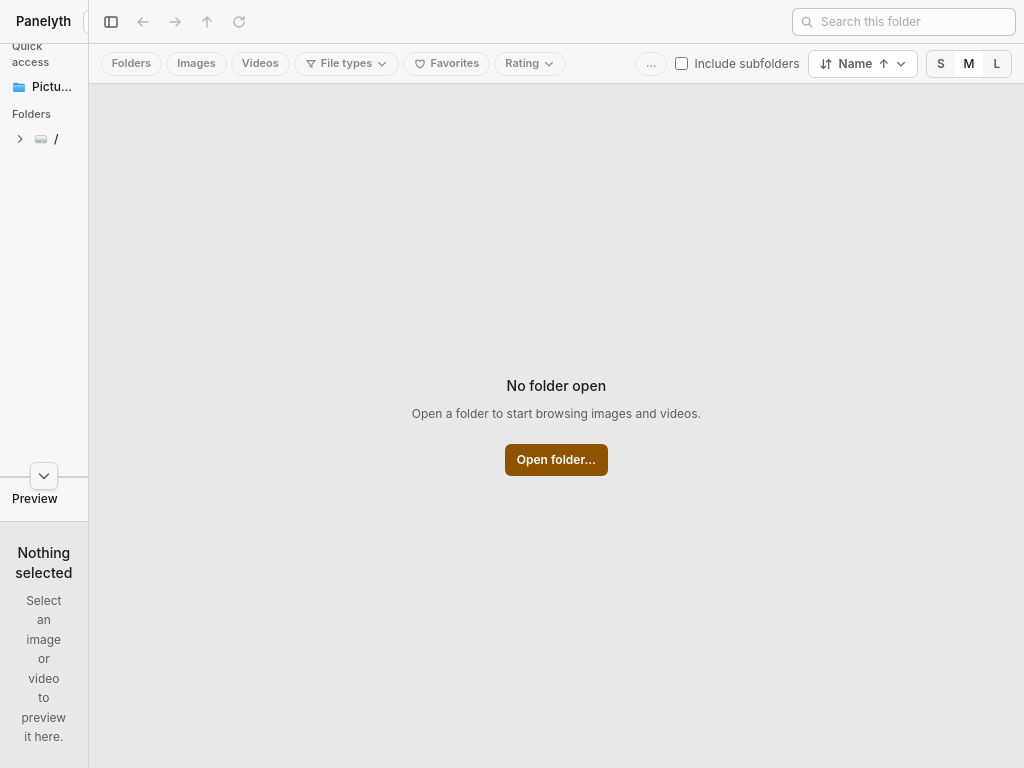
sidebar › lists tree children lazily, one level per expand
The width and height of the screenshot is (1024, 768).
Expected: the heading "No folder open" is shown, [507, 376, 606, 396]
Click the button named "Expand /": point(20, 139) [12, 131, 28, 147]
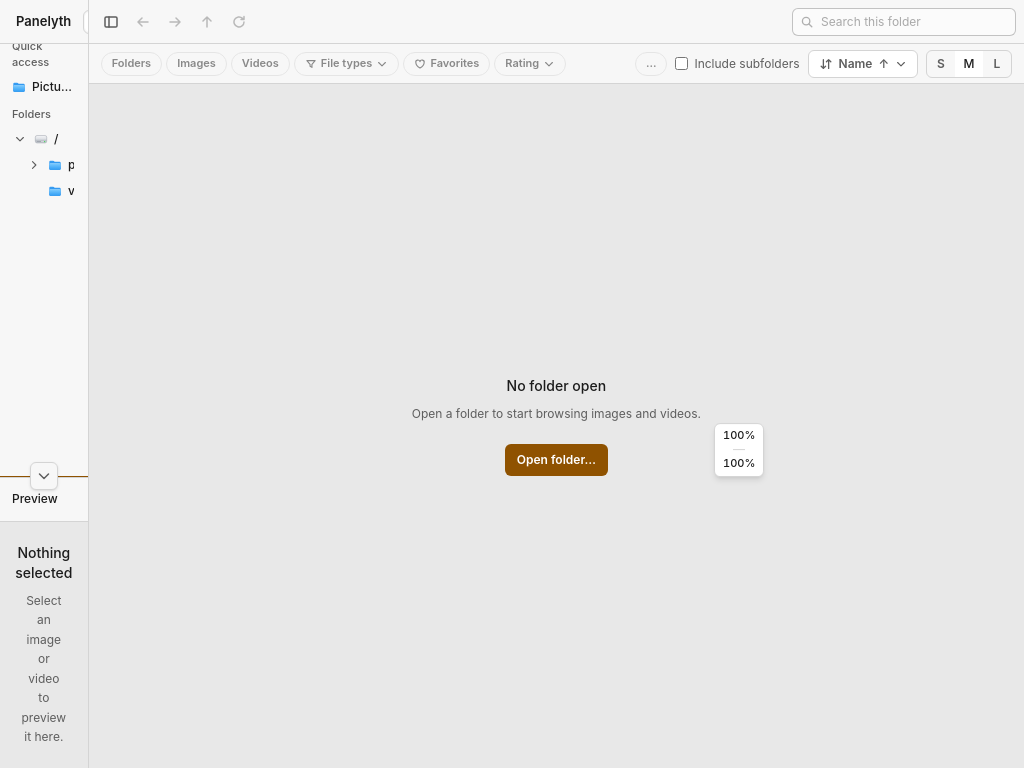
Expected: the list item "photos" is shown, [6, 152, 82, 178]
